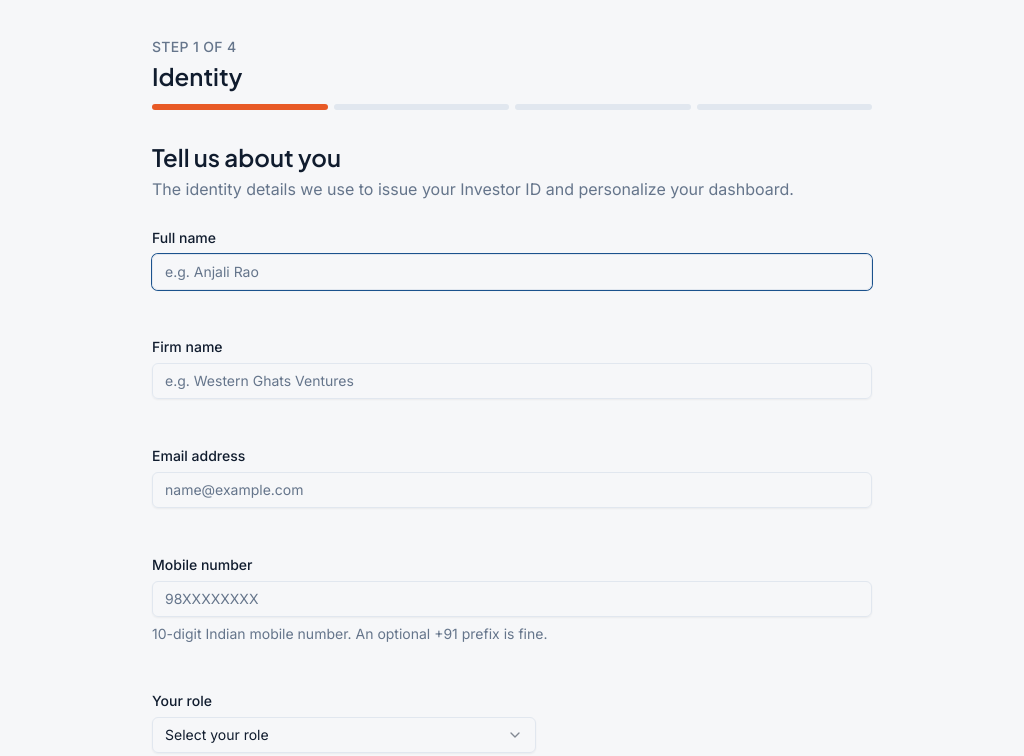
Test: InvestorOnboardingWizard (integration) › blocks advancing past step 1 with invalid fields and surfaces errors
Step 1. Type "A" into the field labelled "Full name" → point(512, 272), box [152, 254, 872, 290]
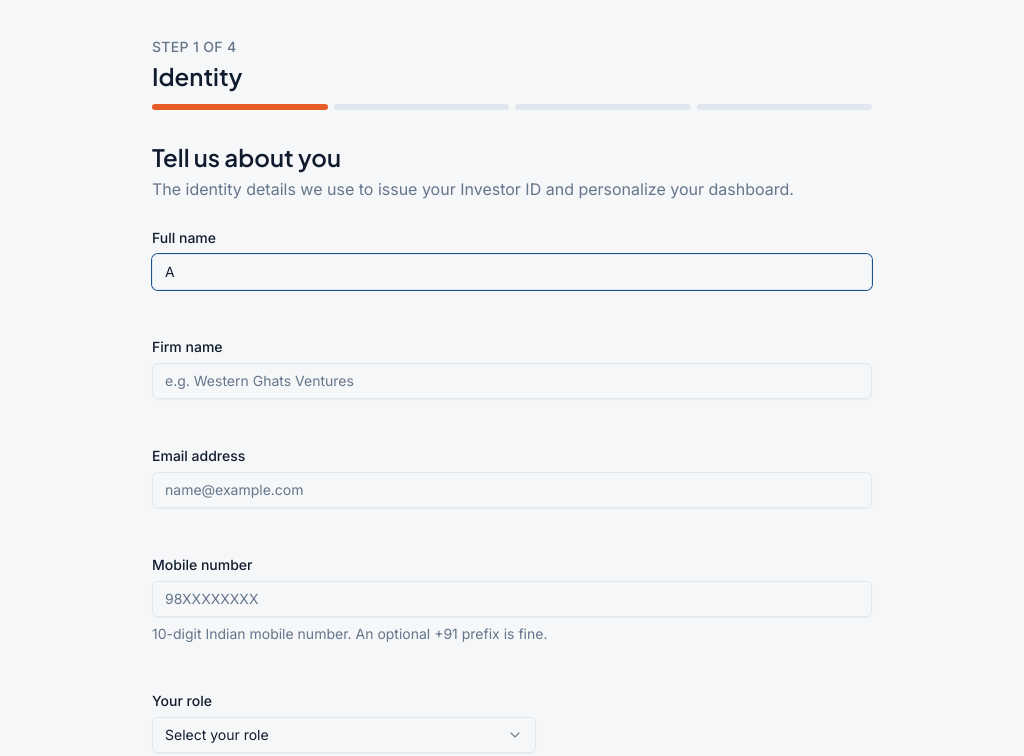
Step 2. Type "nope" into the field labelled "Email address" → point(512, 490), box [152, 472, 872, 508]
(page scrolled)
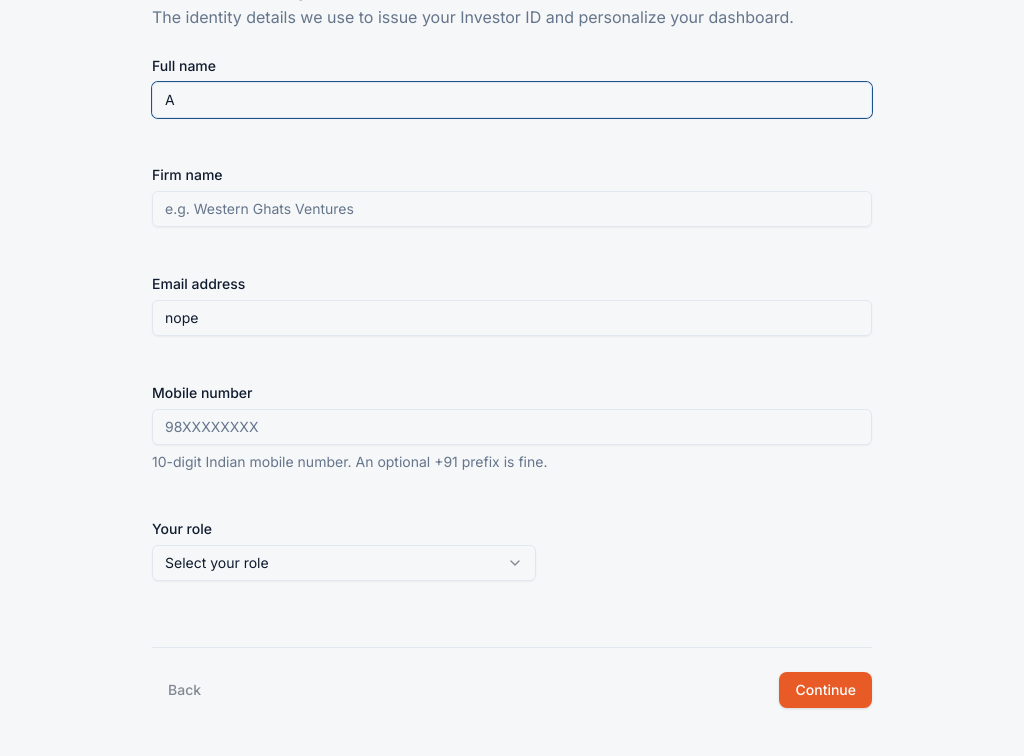
Step 3. Click the button "Continue" → point(826, 690), box [780, 672, 872, 708]
(page scrolled)
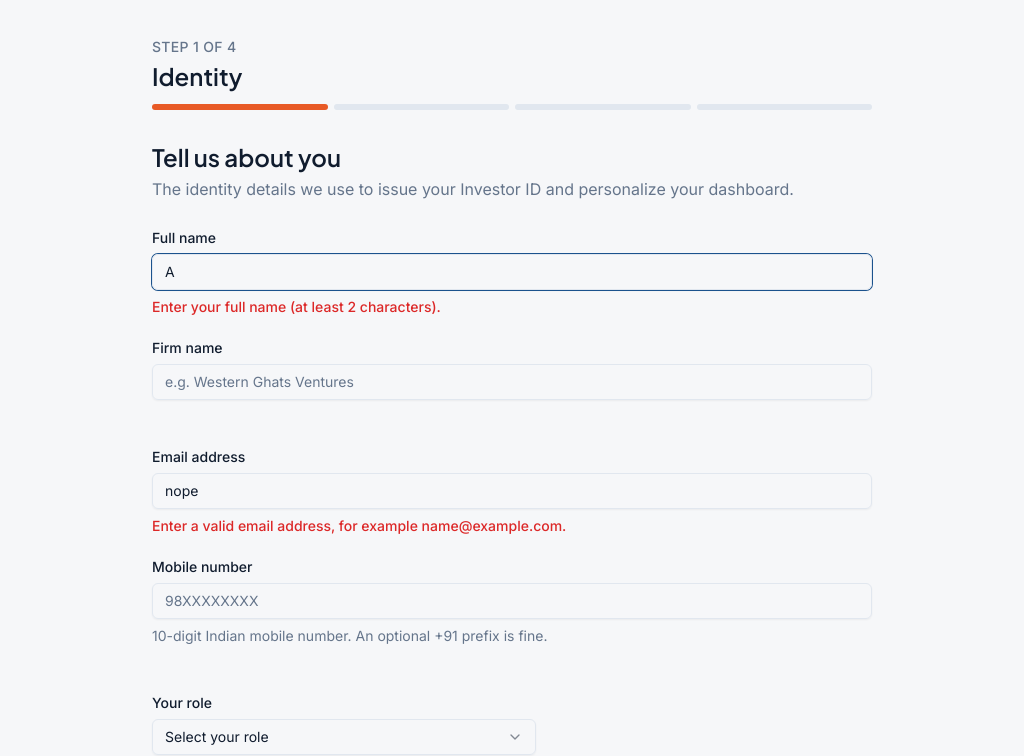
Expected: the text "Enter your full name (at least 2 characters)." is shown, [152, 298, 441, 315]
